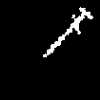double_crochet: (43, 7, 92, 56)
